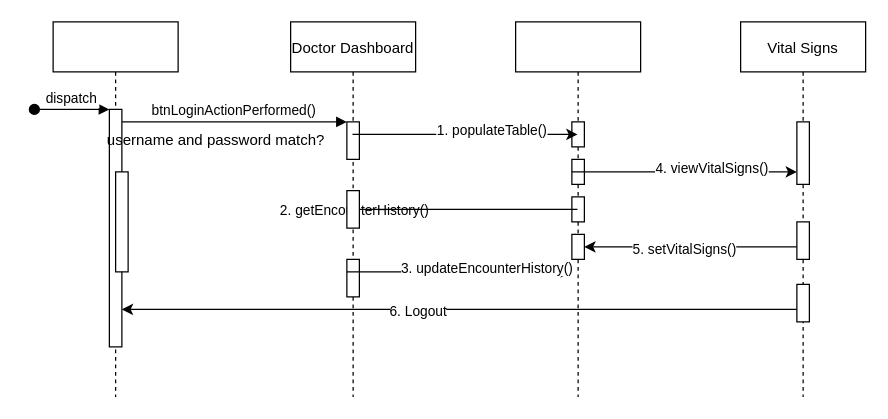
Some shapes in this 888 by 419 pixel diagram are drawn without their labels. Here are the shapes that lost their labels. From the top down, the centre of each, then its label:
point 115,209: Doctor Login
point 577,209: Encounter History
